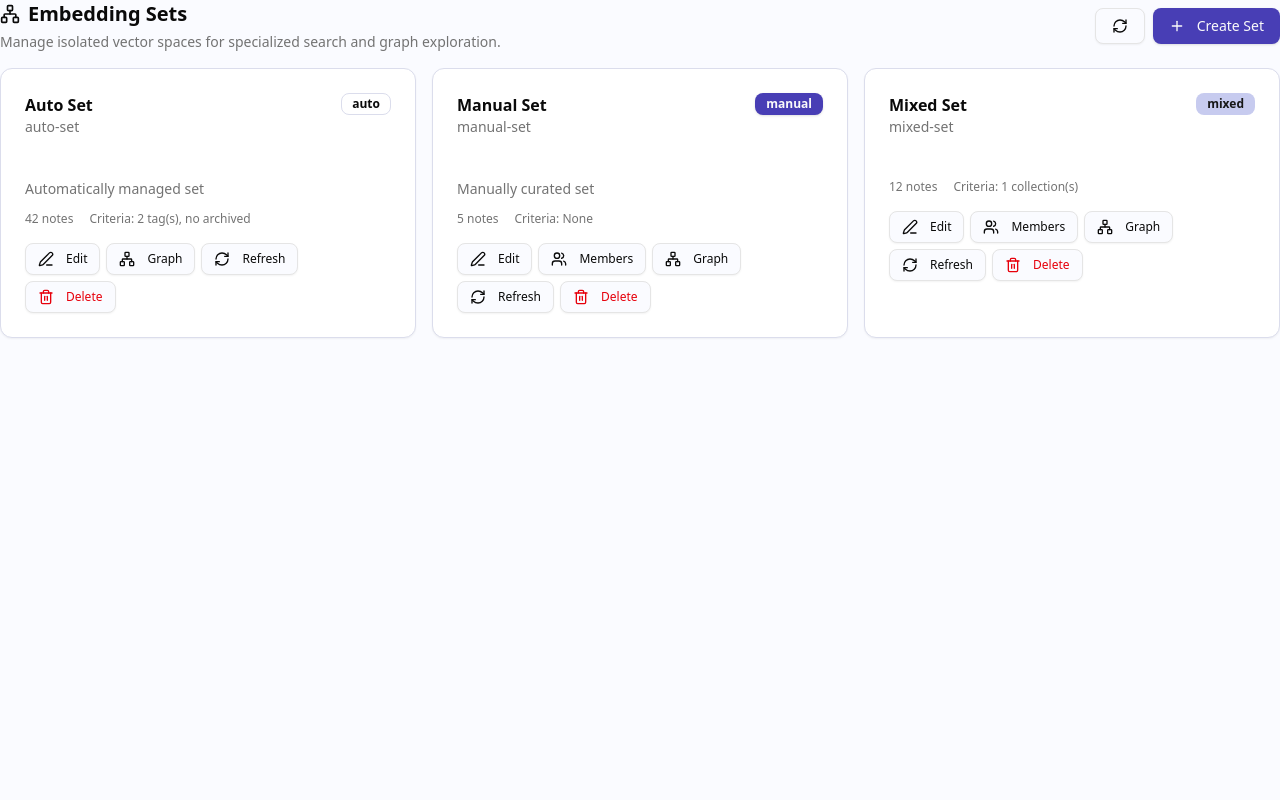
EmbeddingSetManager › delete dialog › closes the delete dialog when Cancel is clicked
The width and height of the screenshot is (1280, 800).
Expected: the text "Auto Set" is shown, [25,94,93,116]
Click the button "Delete" below "42" at (70, 297), box [25,281,116,313]
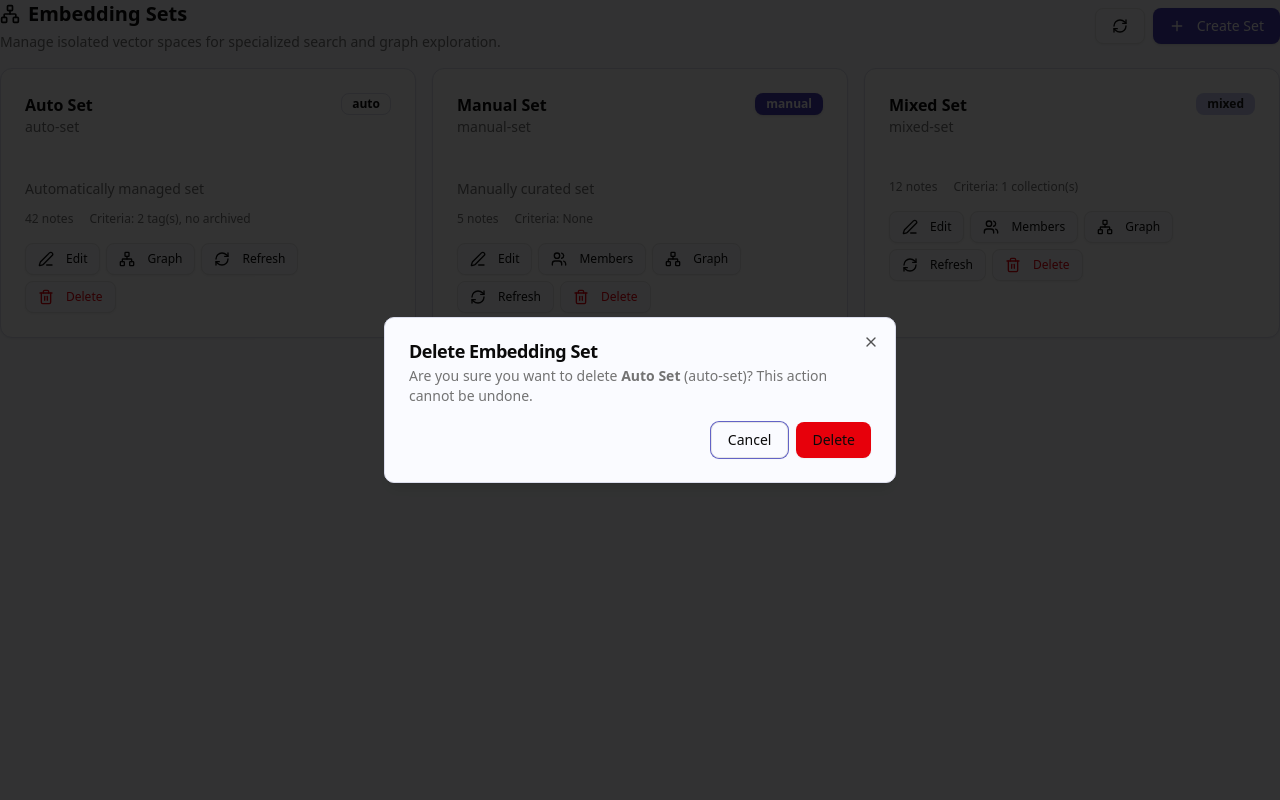
Expected: the heading "Delete Embedding Set" is shown, [409,339,598,363]
Click the button "Cancel" at (750, 440), box [711,422,788,458]
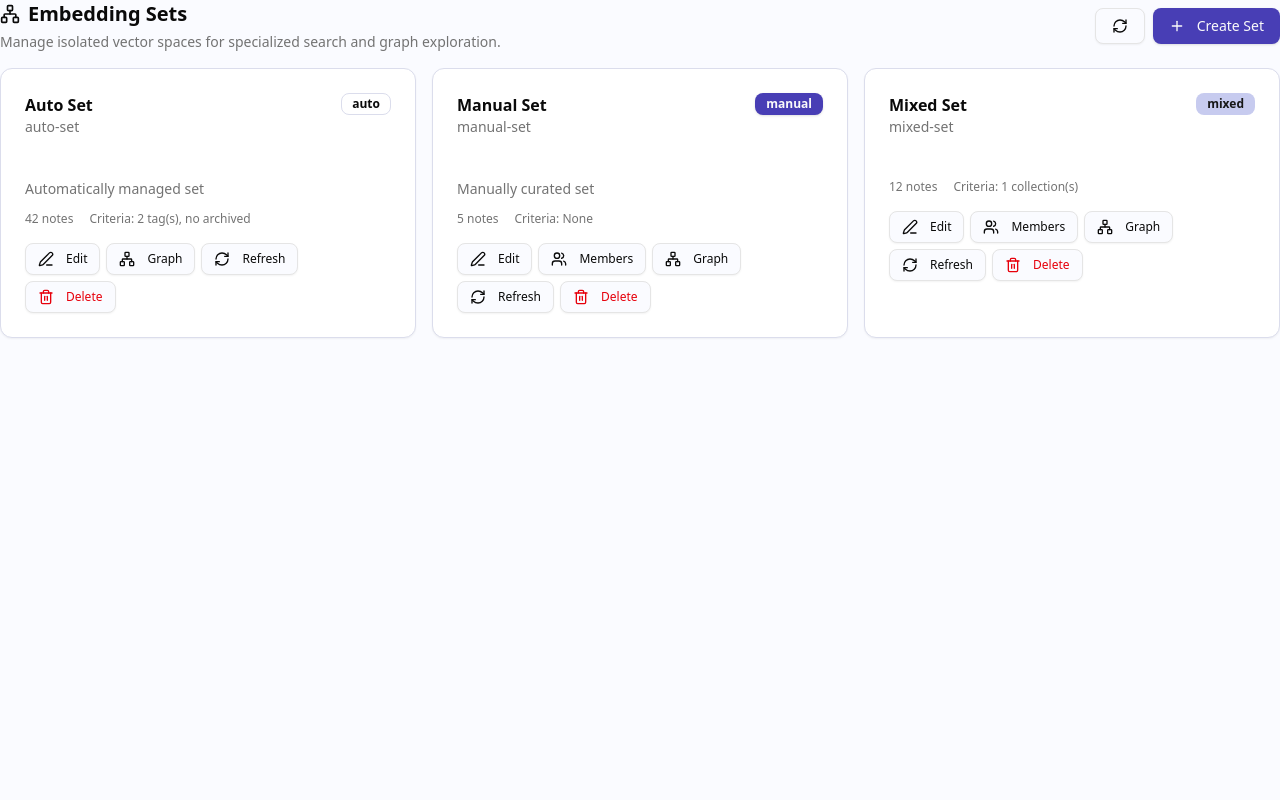
Expected: the heading "Delete Embedding Set" is gone
